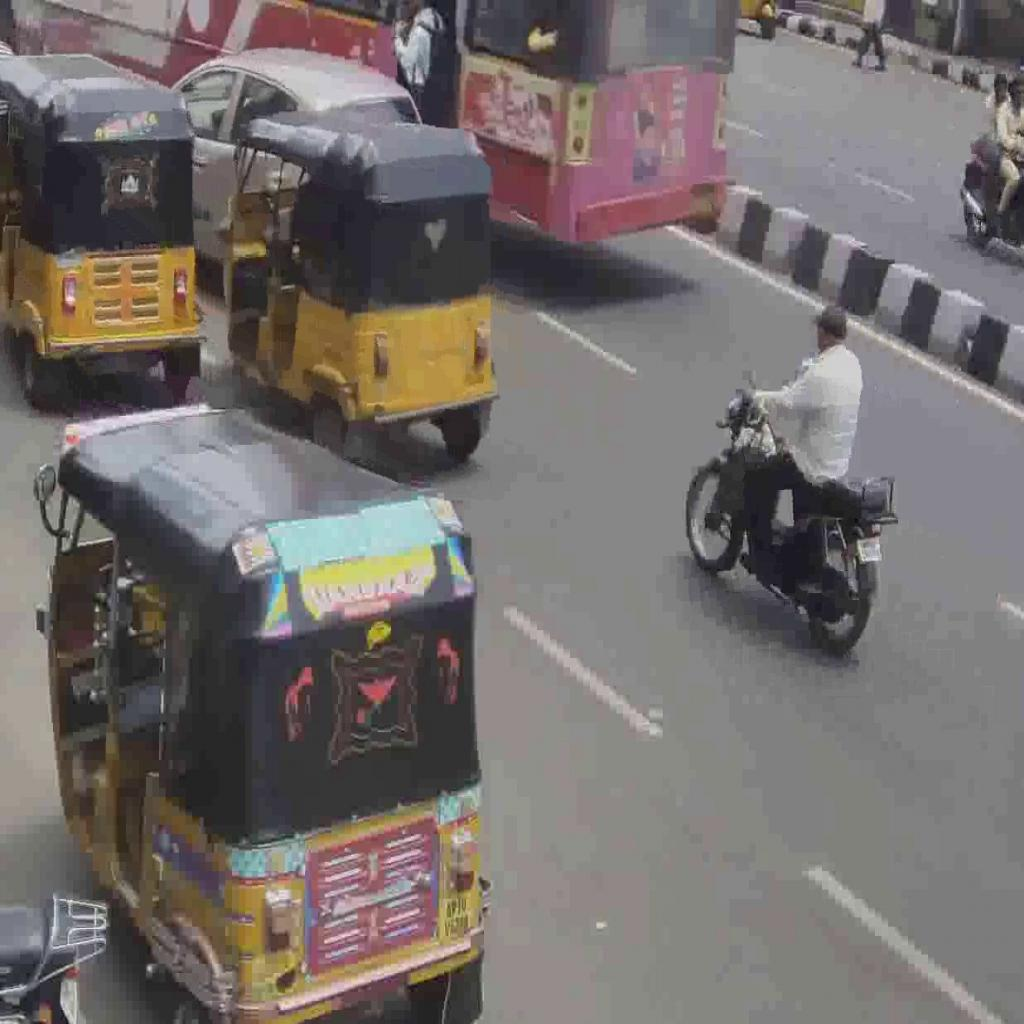helmet: (684, 386, 899, 656)
